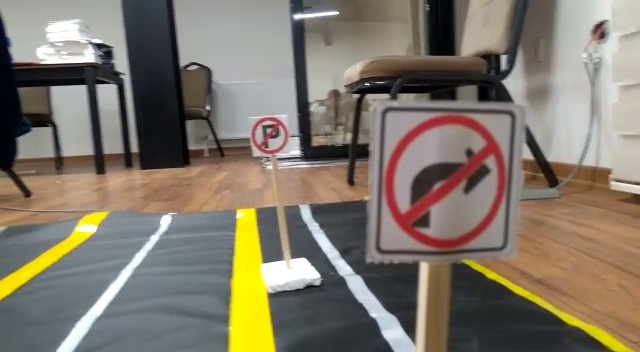park_yapilmaz: (250, 117, 289, 157)
saga_donulmez: (377, 105, 508, 252)
